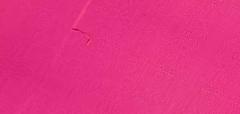snag: (67, 23, 96, 48)
